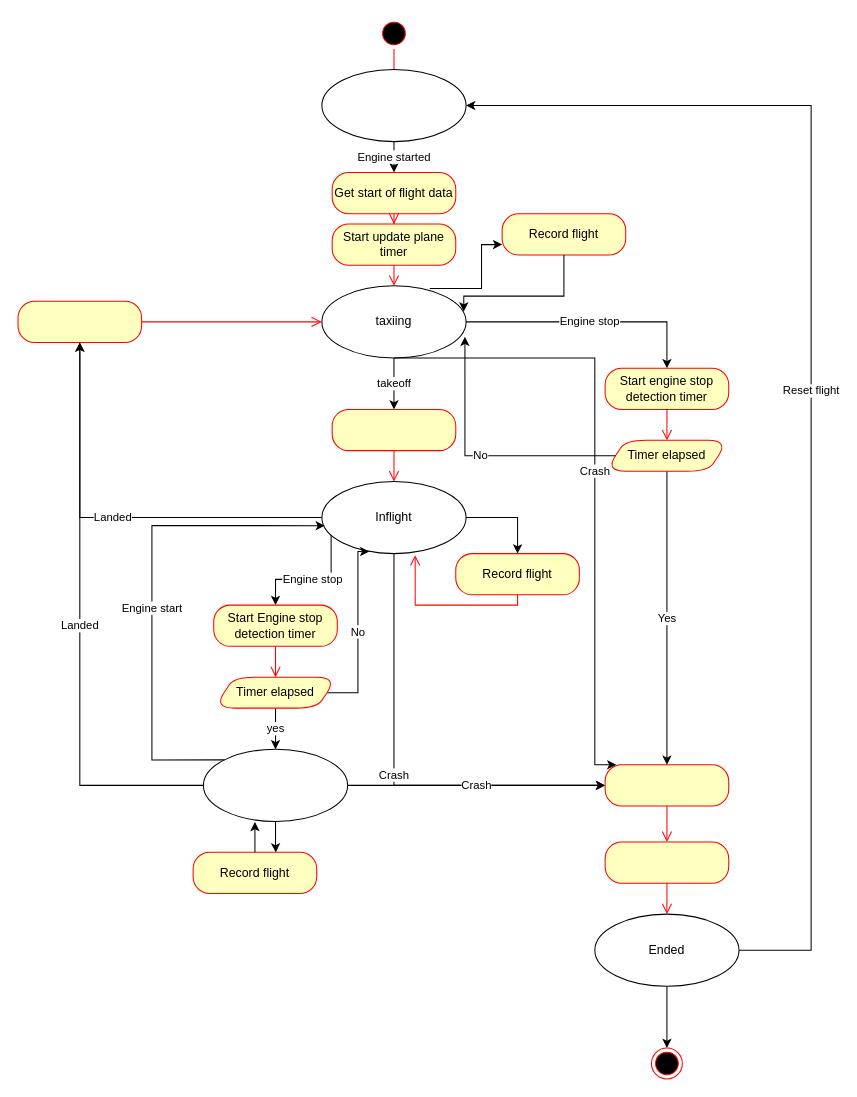
Some shapes in this 857 by 1097 pixel diagram are drawn without their labels. The shapes that lost their labels are listed below. From the top down, each one's box as (x1, y1, x2, y2) in pixels, then its label:
(321, 68, 466, 142): Waiting
(17, 300, 142, 342): Measure landing perfs
(331, 408, 456, 451): Measure takeoff perfs
(202, 748, 348, 821): Gliding
(604, 764, 729, 806): Get end of flight data
(604, 841, 729, 883): Stop update plane status timer
